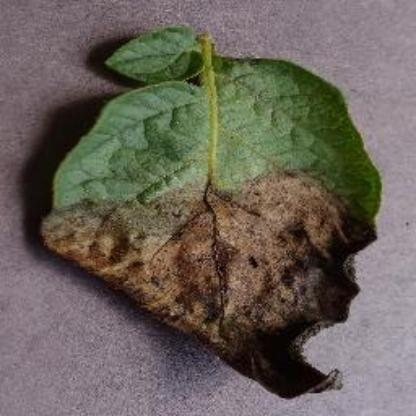Late-Blight: (27, 18, 396, 406)
